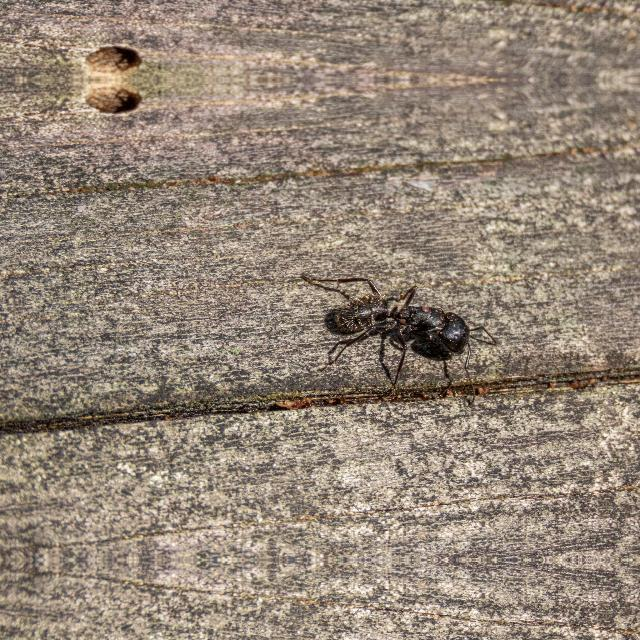Camponotus: (304, 256, 501, 374)
